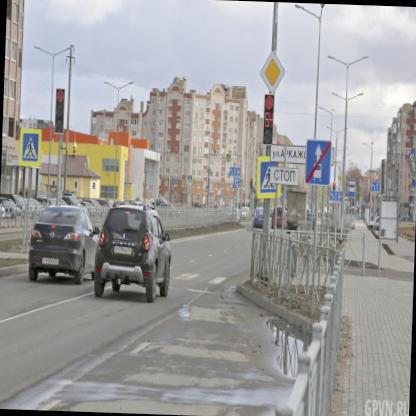obstructed_road_sign: (256, 156, 282, 199)
road_sign: (259, 51, 286, 94), (305, 140, 331, 184), (20, 129, 42, 167), (270, 166, 299, 186)
traffic light: (263, 95, 274, 144), (55, 89, 64, 133)
